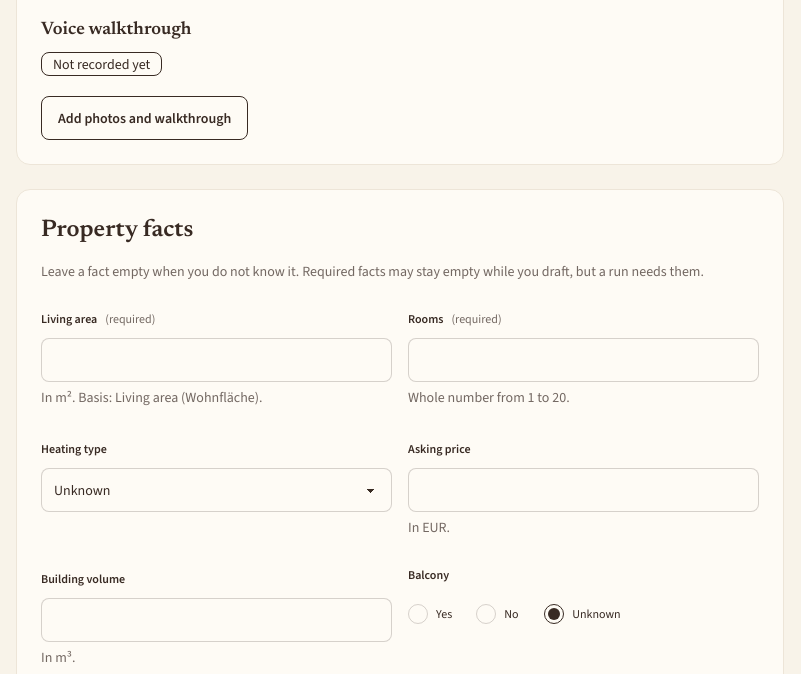
Scenario: saving the fact form › sends one request when the form is submitted twice
(page scrolled)
In the field labelled "Living area (required)": (216, 360) [41,338,392,382], type "50"
(page scrolled)
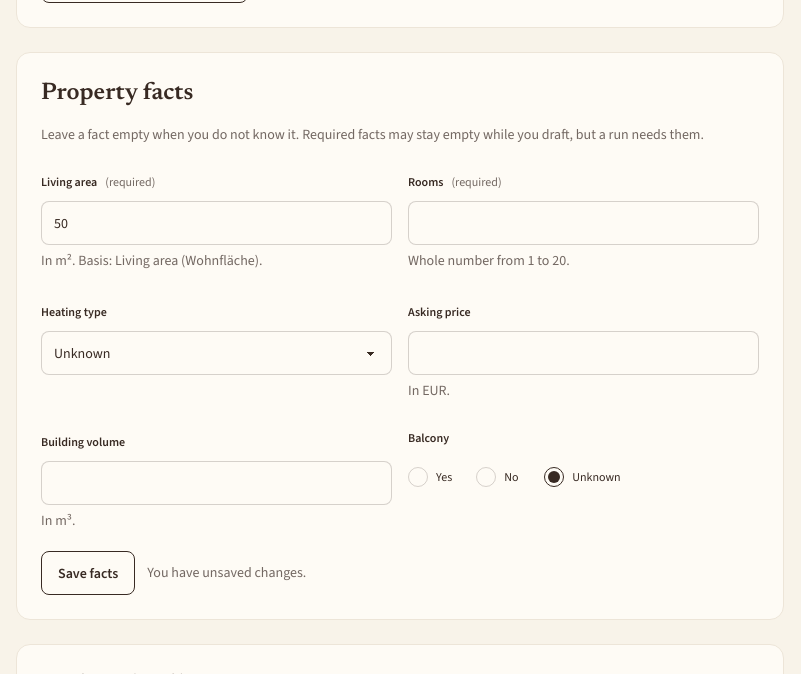
Submit the form named "Living area"
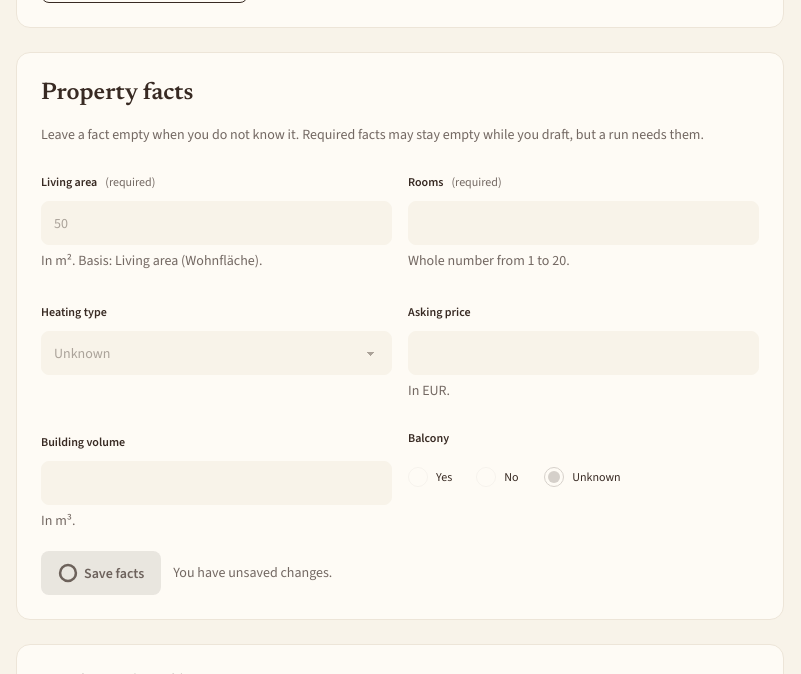
Submit the form named "Living area"
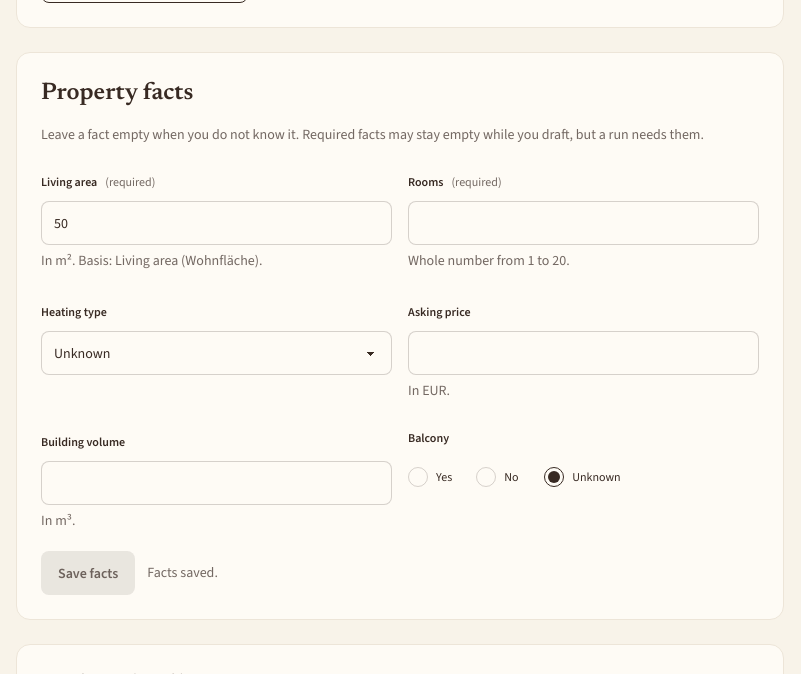
Check: the text "Facts saved." is shown, box [147,563,218,583]
